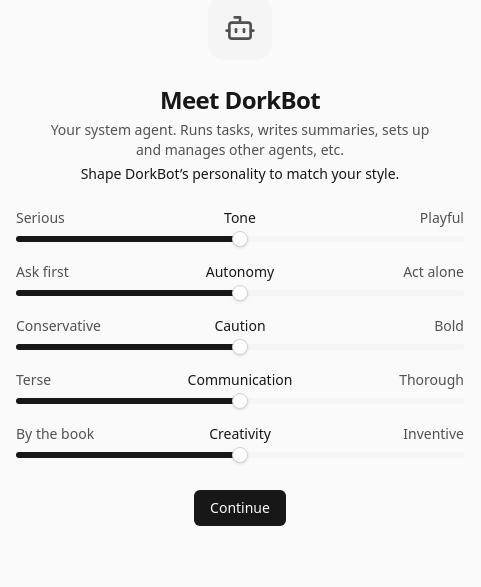
Test case: MeetDorkBotStep › shows generic error message for non-Error failures
The image size is (481, 587).
Step 1. Click the button with test id "continue-dorkbot" → coordinates (240, 508), box [194,490,286,526]
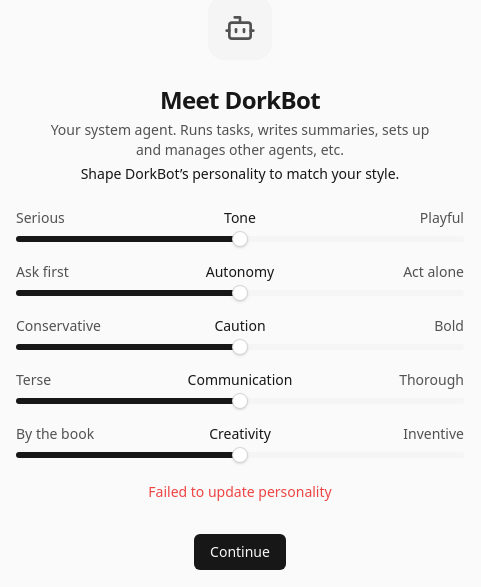
Expected: the message with test id "update-error" reads "Failed to update personality", [148,482,332,501]
